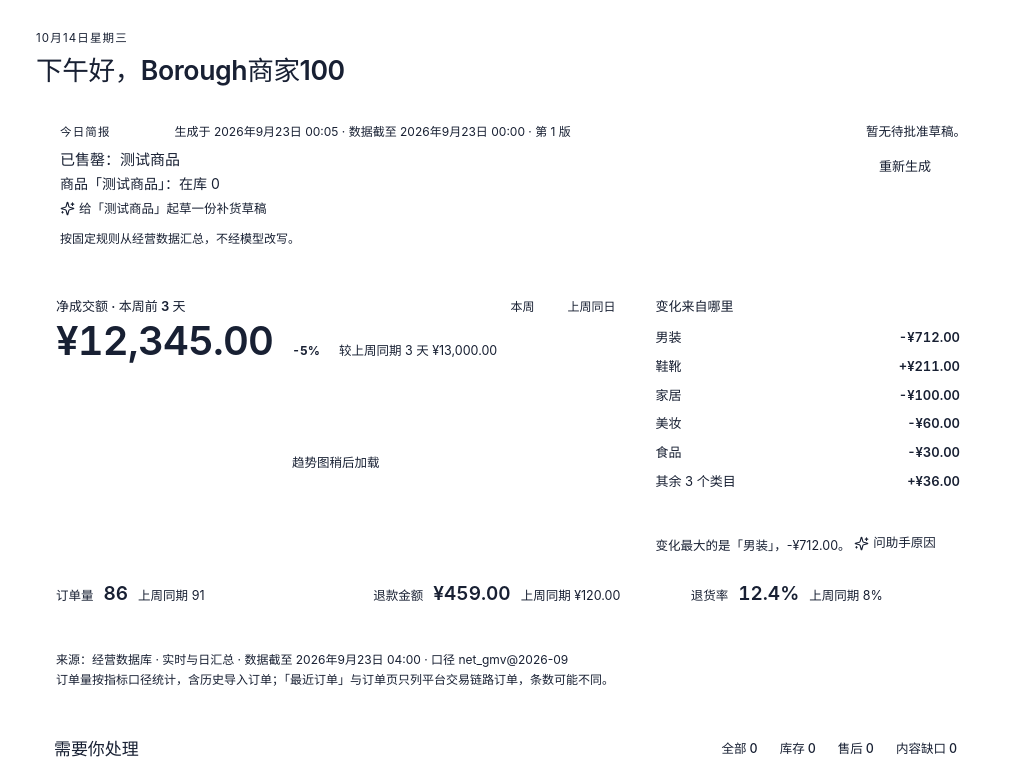
HomeView：今日简报卡（迁自 TodayView） › 后端仍在冷却（429 RATE_LIMITED）时提示稍后再试
Click the button with test id "regenerate". click: (916, 166)
box: top-left (866, 149), bottom-right (966, 183)
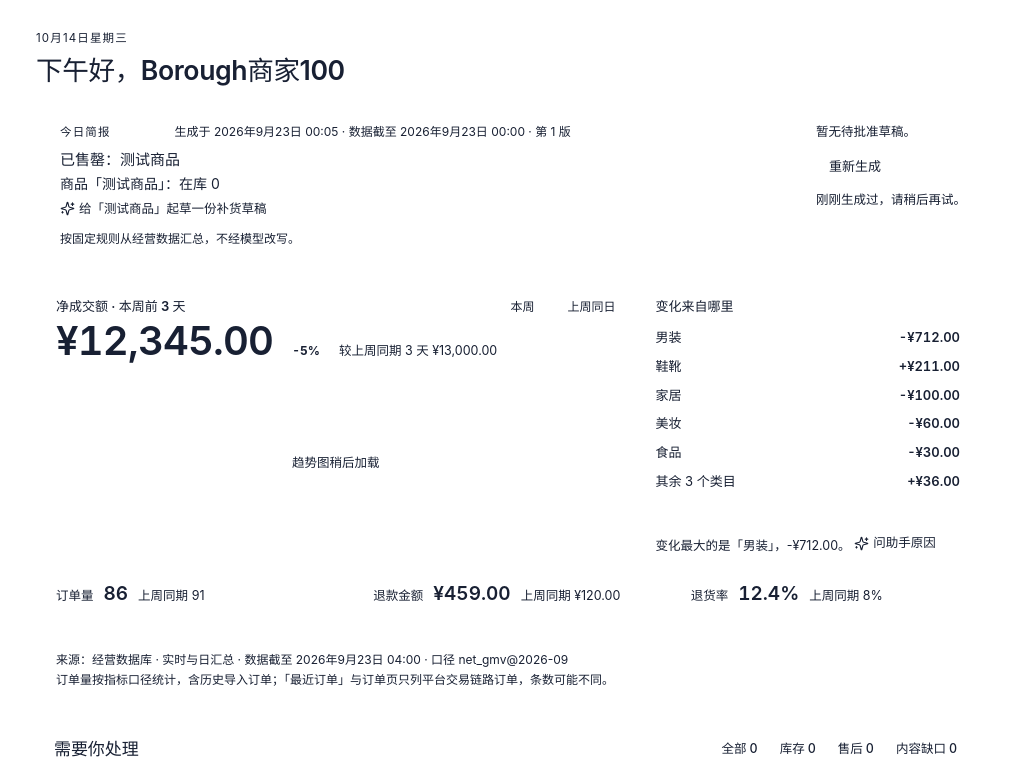
Check: the element with test id "home-brief" shows "刚刚生成过，请稍后再试。", box top-left (816, 192), bottom-right (966, 207)
